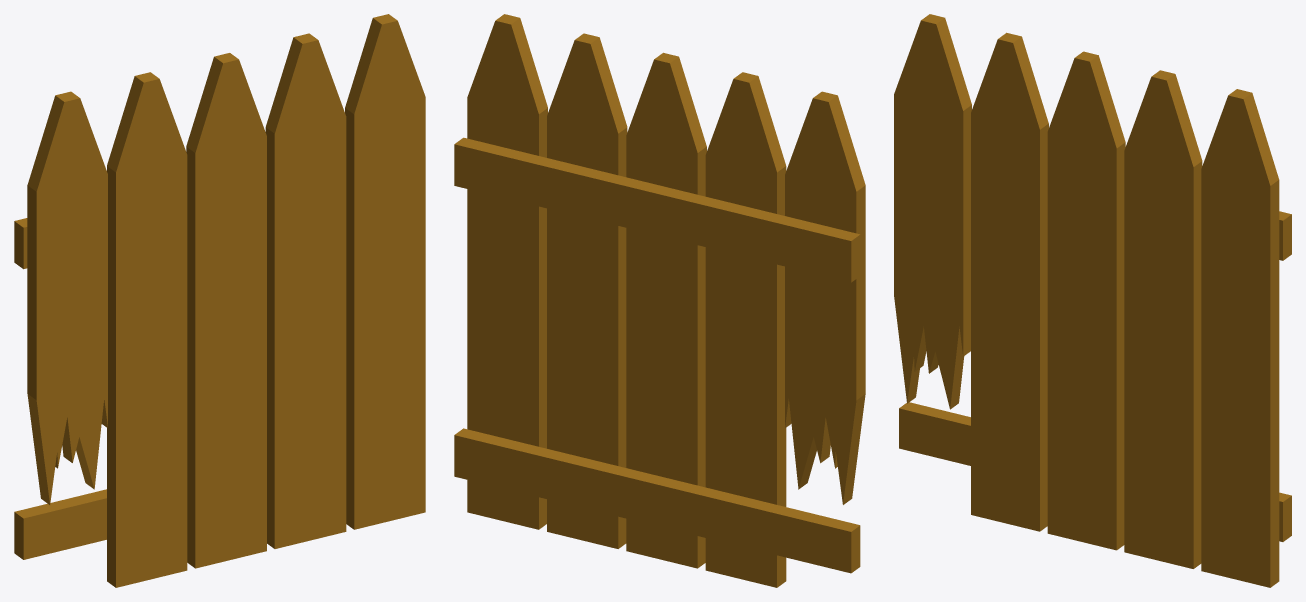
Rendered from WoodenFence (3).fbx.
3 renders of one model, left to right at view 1: azimuth 30°, elevation 25°; view 2: azimuth 150°, elevation 25°; view 3: azimuth 330°, elevation 25°, orthographic. The views are drawn at different scales.
Visible parts, largest first — view 1: Cube.003; view 2: Cube.003; view 3: Cube.003.
Part boxes in pixels (bbox=[...]): Cube.003: bbox=[14, 14, 425, 587]; Cube.003: bbox=[454, 14, 865, 587]; Cube.003: bbox=[894, 14, 1291, 587].
Bounding box in the file's own units: 100 × 120 × 8.
